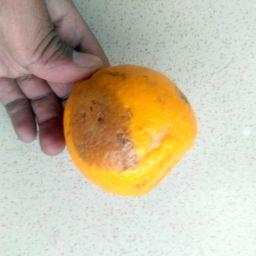Unripe: (65, 64, 197, 197)
